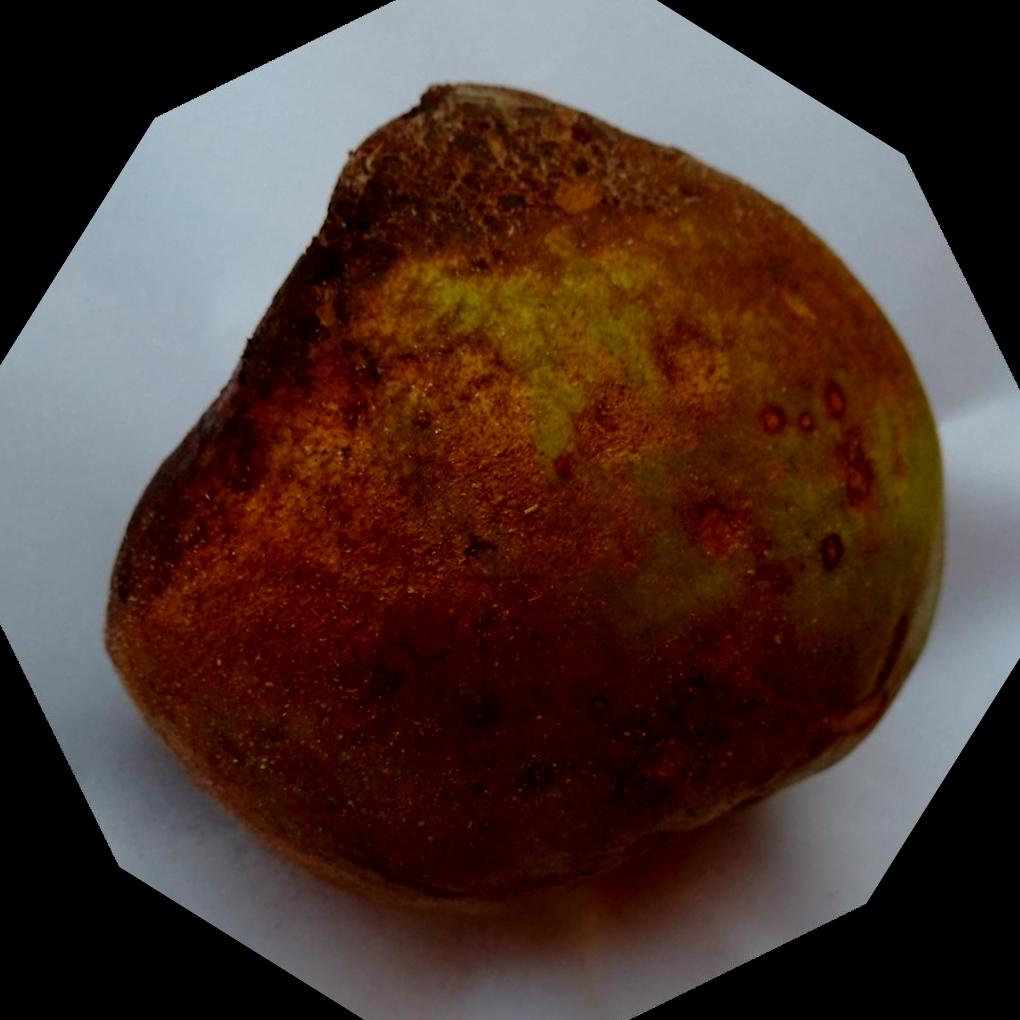FreshOrange: (99, 81, 946, 913)
